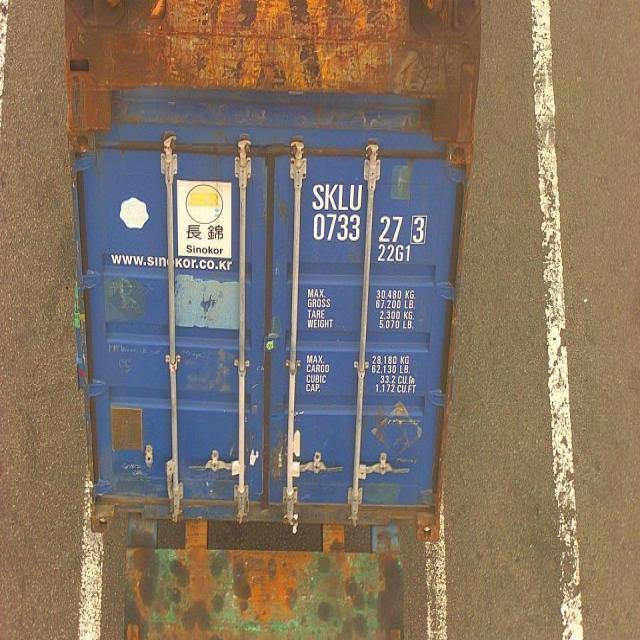ISO: (378, 244, 413, 265)
container_number: (310, 186, 430, 242)
